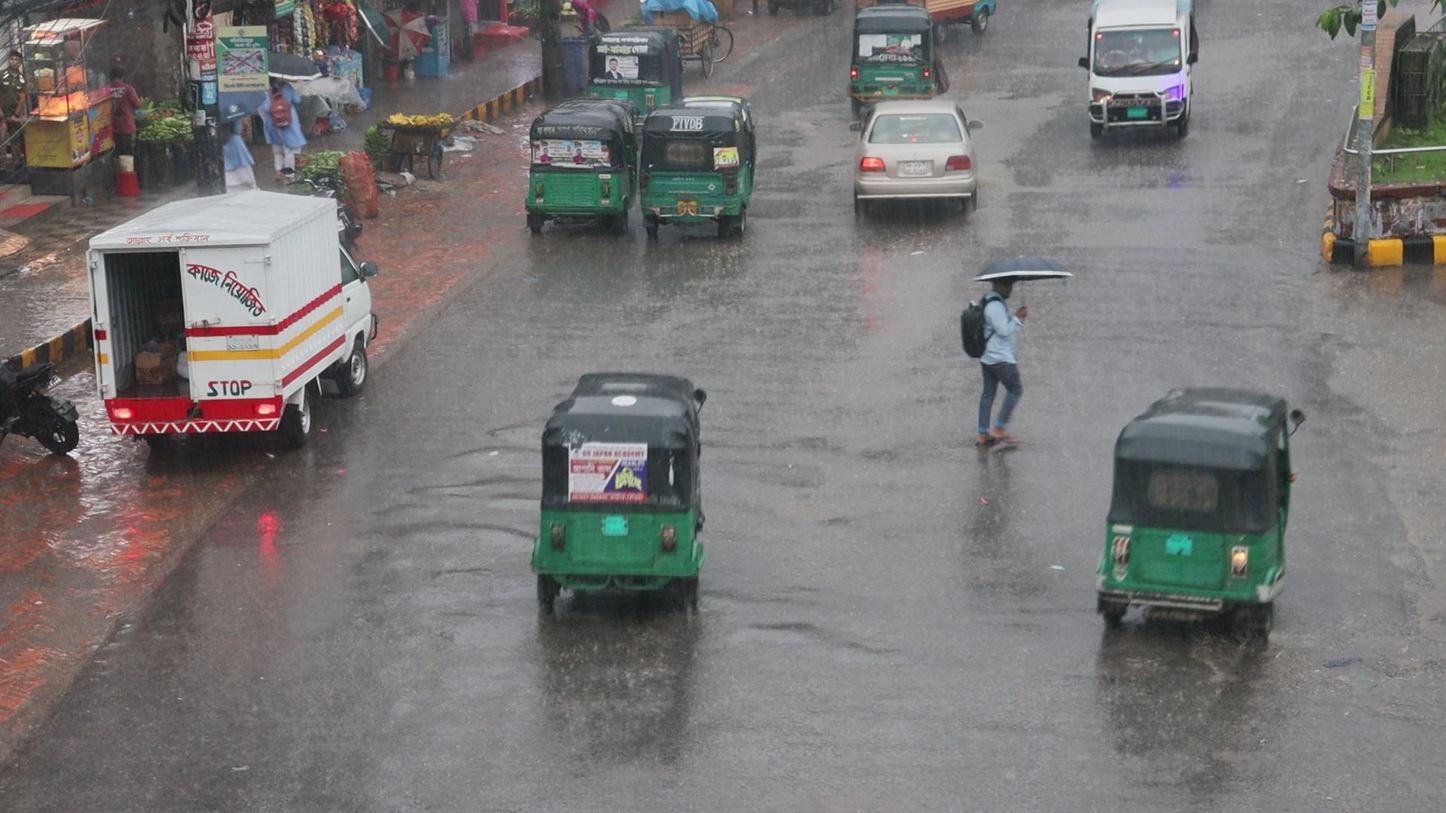Car: (855, 99, 990, 234), (1081, 10, 1207, 153)
